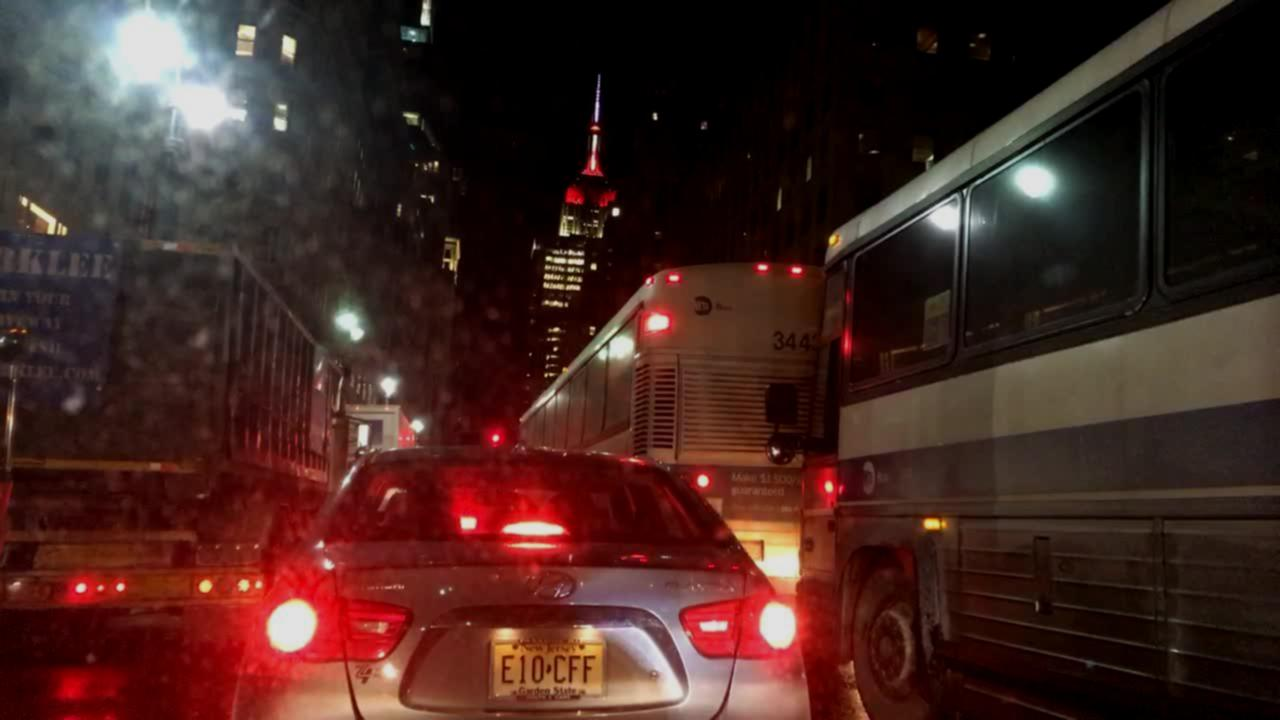Hyundai: (505, 563, 593, 610)
